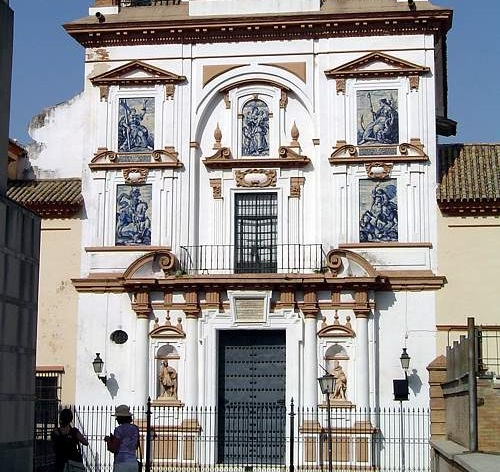fronton: (323, 51, 431, 80), (88, 60, 183, 86)
fronton-curvo: (315, 324, 358, 340), (149, 325, 186, 339)
fronton-partido: (119, 244, 384, 290), (203, 145, 315, 169), (326, 142, 430, 167), (85, 146, 185, 171)
vano-adintelado: (199, 317, 304, 465), (225, 185, 283, 276)
